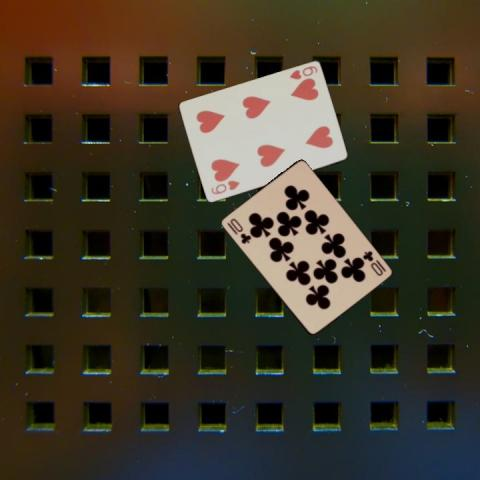10c: (224, 216, 253, 246), (360, 248, 388, 277)
6h: (208, 178, 241, 196), (286, 64, 319, 81)
